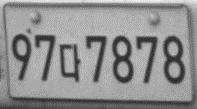7: (135, 35, 158, 84), (33, 34, 56, 82), (85, 35, 107, 83)
8: (162, 34, 185, 84), (110, 35, 134, 82)
9: (11, 33, 31, 80)
다: (58, 43, 82, 82)
